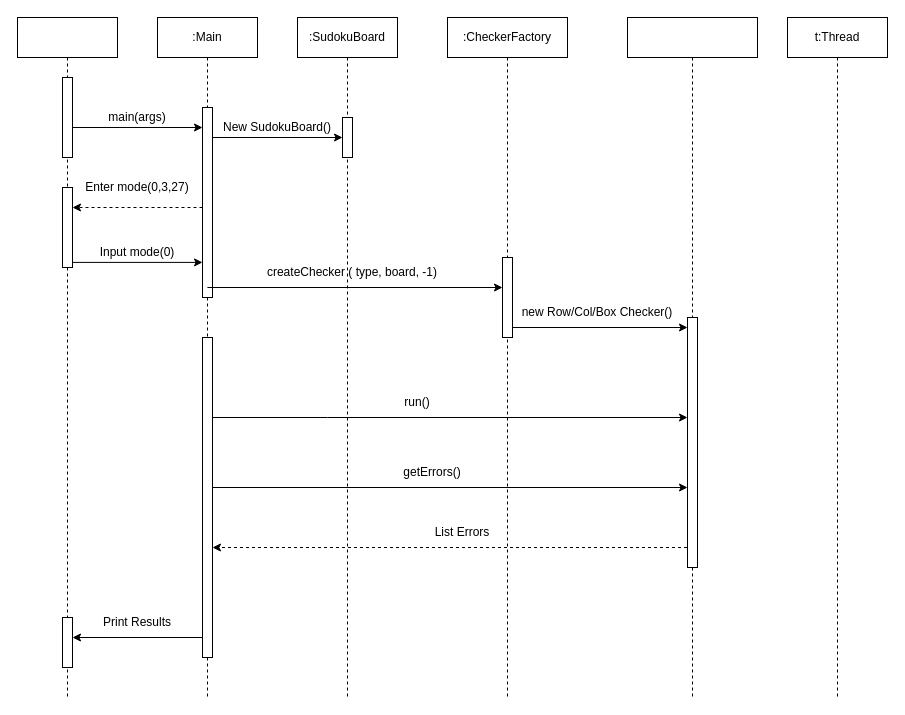
The diagram is 905 pixels wide and 715 high, and some of its shapes have lost their labels. The box of each missing label's shape, as (x1, y1, x2, y2) in pixels:
c:Checker: (626, 16, 758, 698)
User: (16, 16, 118, 698)
